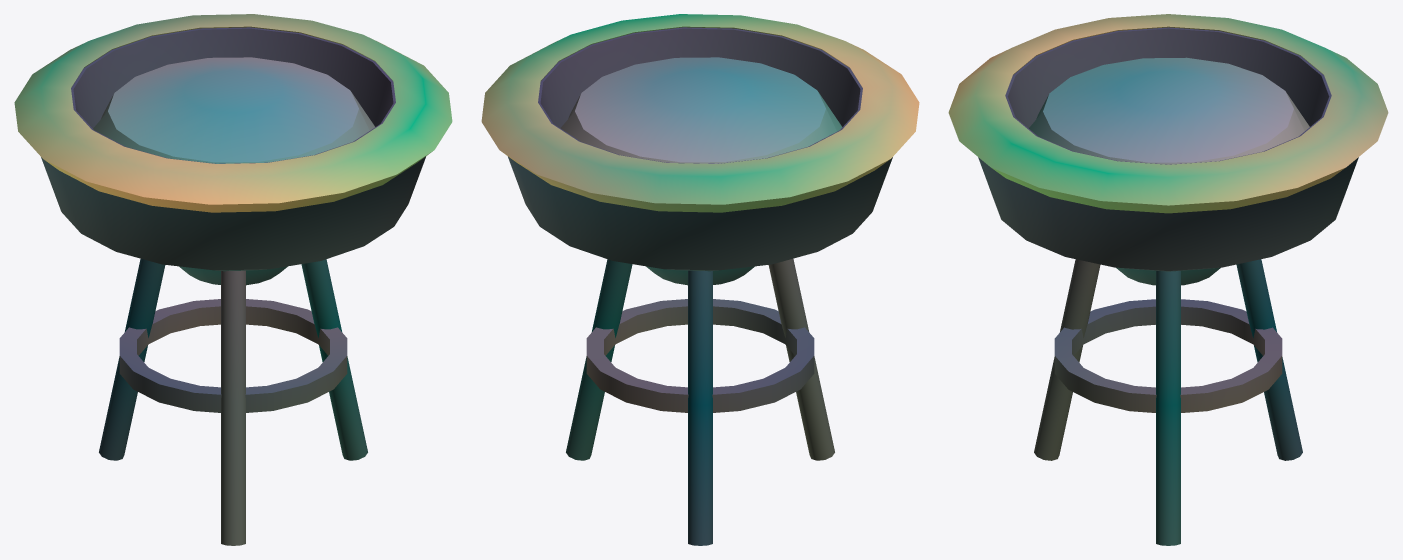
Rendered from brazier_cold.glb.
The picture shows the model from 3 angles, left to right: view 1: azimuth 30°, elevation 25°; view 2: azimuth 150°, elevation 25°; view 3: azimuth 270°, elevation 25°; orthographic projection.
Visible parts, largest first — view 1: bowl, bowl_rim, ash, leg_ring, leg.002, leg.001, leg; view 2: bowl, bowl_rim, ash, leg_ring, leg.001, leg.002, leg; view 3: bowl, bowl_rim, ash, leg_ring, leg, leg.001, leg.002.
Boxes of the visible parts, x1,y1,x2,y2 form: bowl: [41, 27, 425, 285]; bowl_rim: [14, 14, 452, 212]; ash: [93, 57, 374, 163]; leg_ring: [119, 299, 347, 412]; leg.002: [221, 270, 245, 545]; leg.001: [99, 259, 165, 460]; leg: [301, 259, 367, 460]; bowl: [508, 27, 892, 285]; bowl_rim: [481, 14, 919, 212]; ash: [560, 57, 842, 163]; leg_ring: [586, 299, 814, 412]; leg.001: [688, 270, 712, 545]; leg.002: [768, 259, 834, 460]; leg: [566, 259, 632, 460]; bowl: [978, 27, 1358, 285]; bowl_rim: [948, 14, 1388, 213]; ash: [1029, 57, 1309, 164]; leg_ring: [1054, 299, 1282, 412]; leg: [1156, 271, 1180, 545]; leg.001: [1236, 259, 1302, 460]; leg.002: [1034, 259, 1100, 460].
Bounding box in the file's own units: 0.876 × 0.8654 × 0.876.
